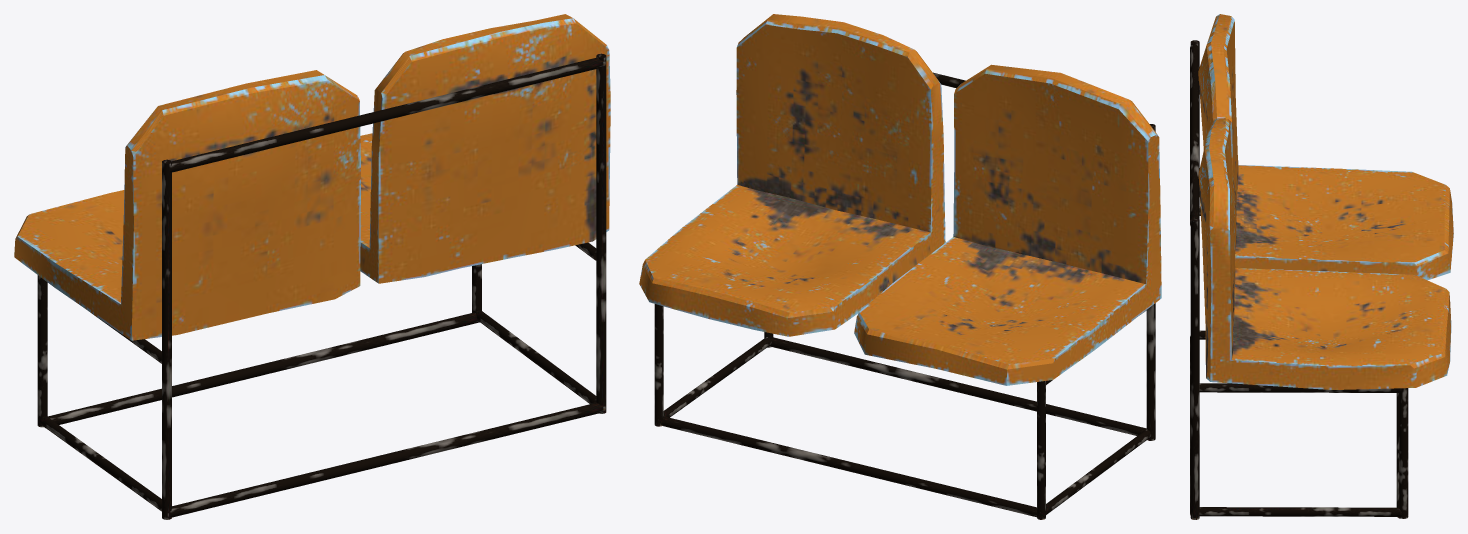
The model's file is chairs.fbx.
3 renders of one model, left to right at view 1: azimuth 30°, elevation 25°; view 2: azimuth 150°, elevation 25°; view 3: azimuth 270°, elevation 25°, orthographic. The views are drawn at different scales.
Visible parts, largest first — view 1: chairs; view 2: chairs; view 3: chairs.
Part boxes in pixels (bbox=[...]): chairs: bbox=[14, 14, 610, 519]; chairs: bbox=[639, 14, 1161, 519]; chairs: bbox=[1190, 14, 1453, 519].
Bounding box in the file's own units: 130 × 104 × 73.77.
